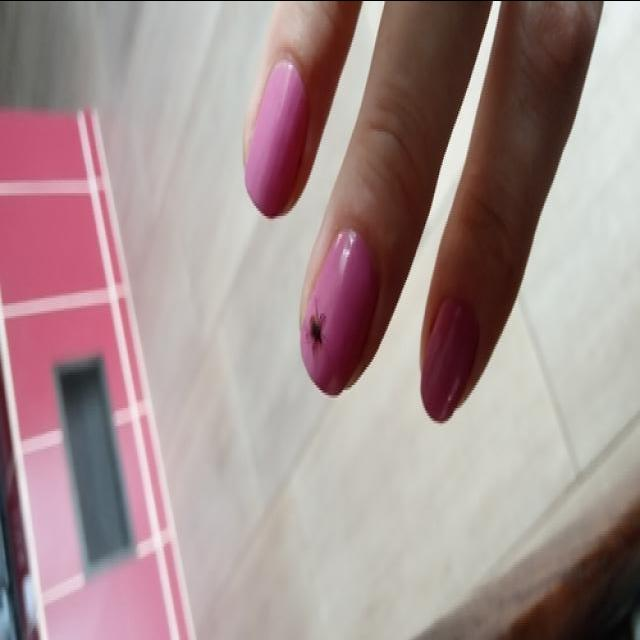Ixodes Ricinus-F: (305, 297, 324, 346)
